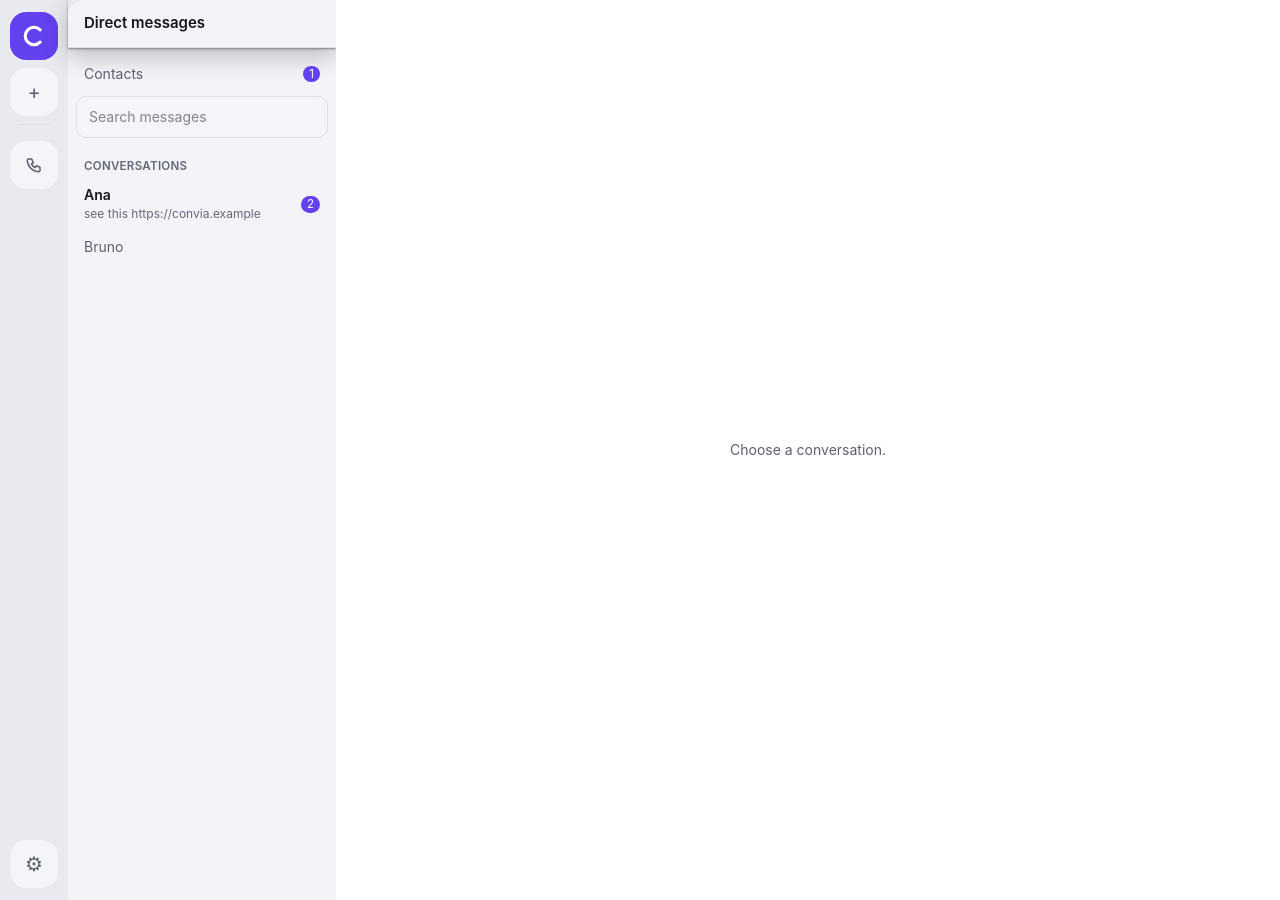
opening a conversation says it is on screen, and shows it formatted
This screenshot has width=1280, height=900.
What coordinates should you click on to do the following:
click the text "Ana"
I would click on:
 (97, 195)
Its box is [84,186,111,203].
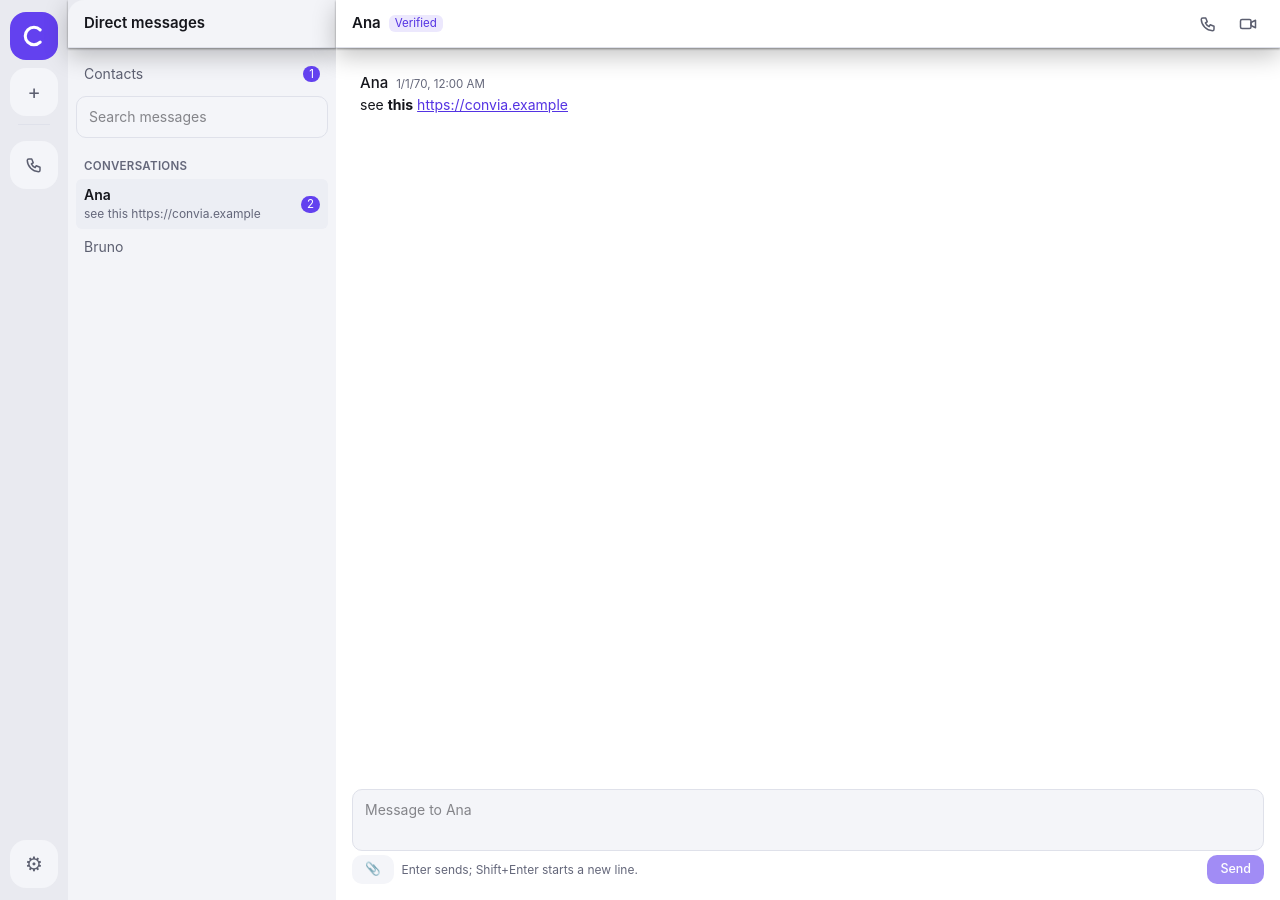
Check: the text "this" is shown, box [388,96,413,112]
